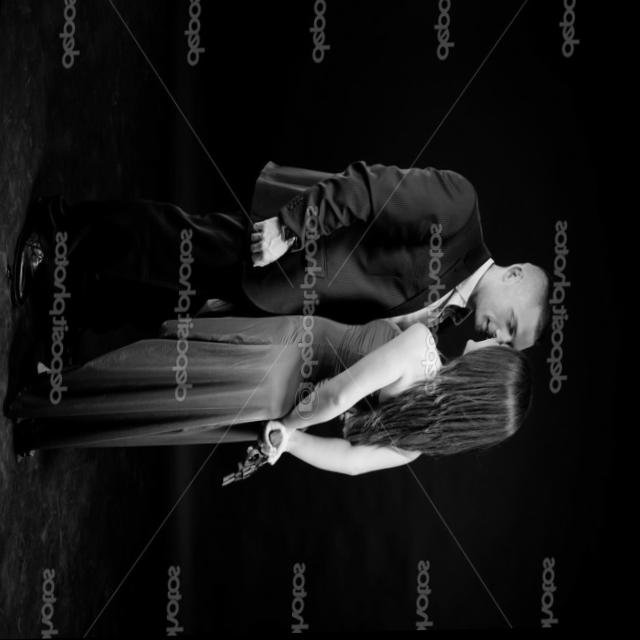handgun: (224, 423, 296, 508)
